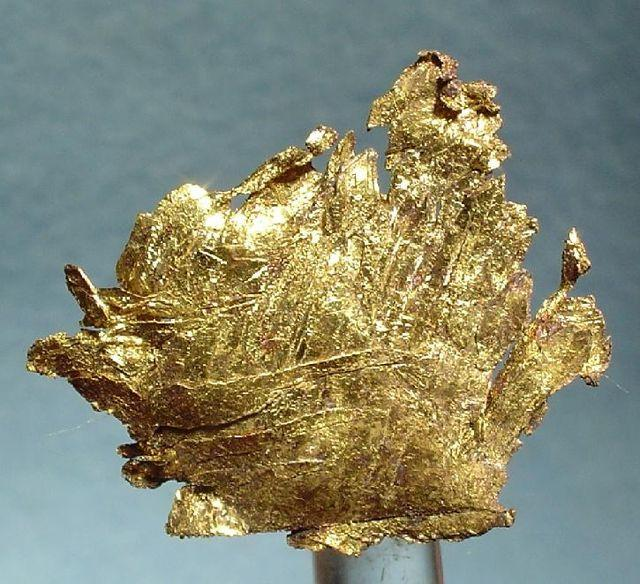gold: (19, 47, 615, 556)
